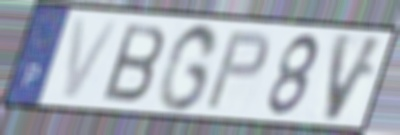8: (266, 31, 321, 119)
B: (100, 21, 169, 105)
G: (155, 21, 222, 114)
P: (202, 30, 273, 112)
V: (321, 30, 389, 125), (61, 15, 123, 102)
